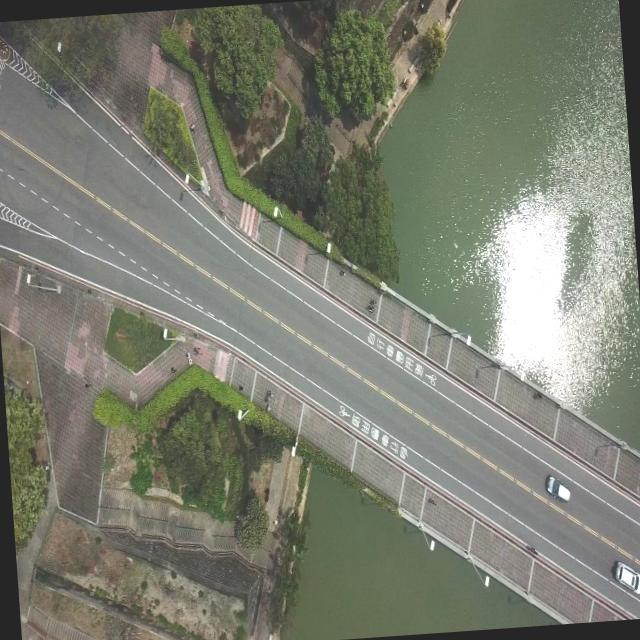car: (612, 558, 640, 596), (544, 472, 571, 504)
